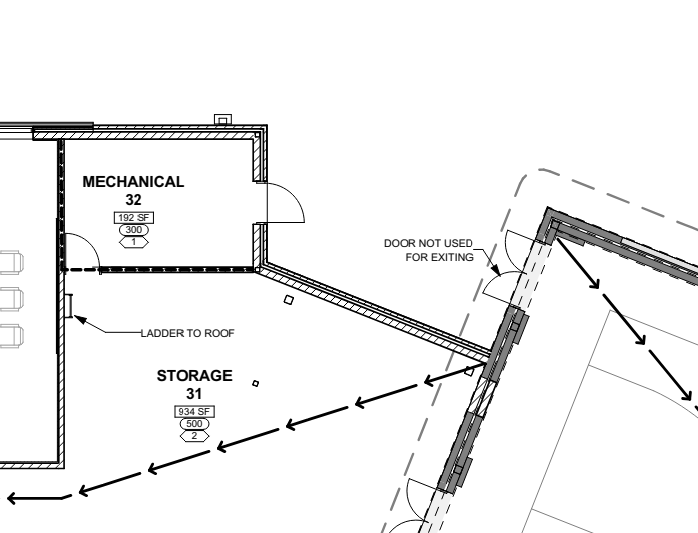door: (261, 182, 310, 227)
double door: (475, 227, 536, 306)
window: (464, 376, 500, 420)
